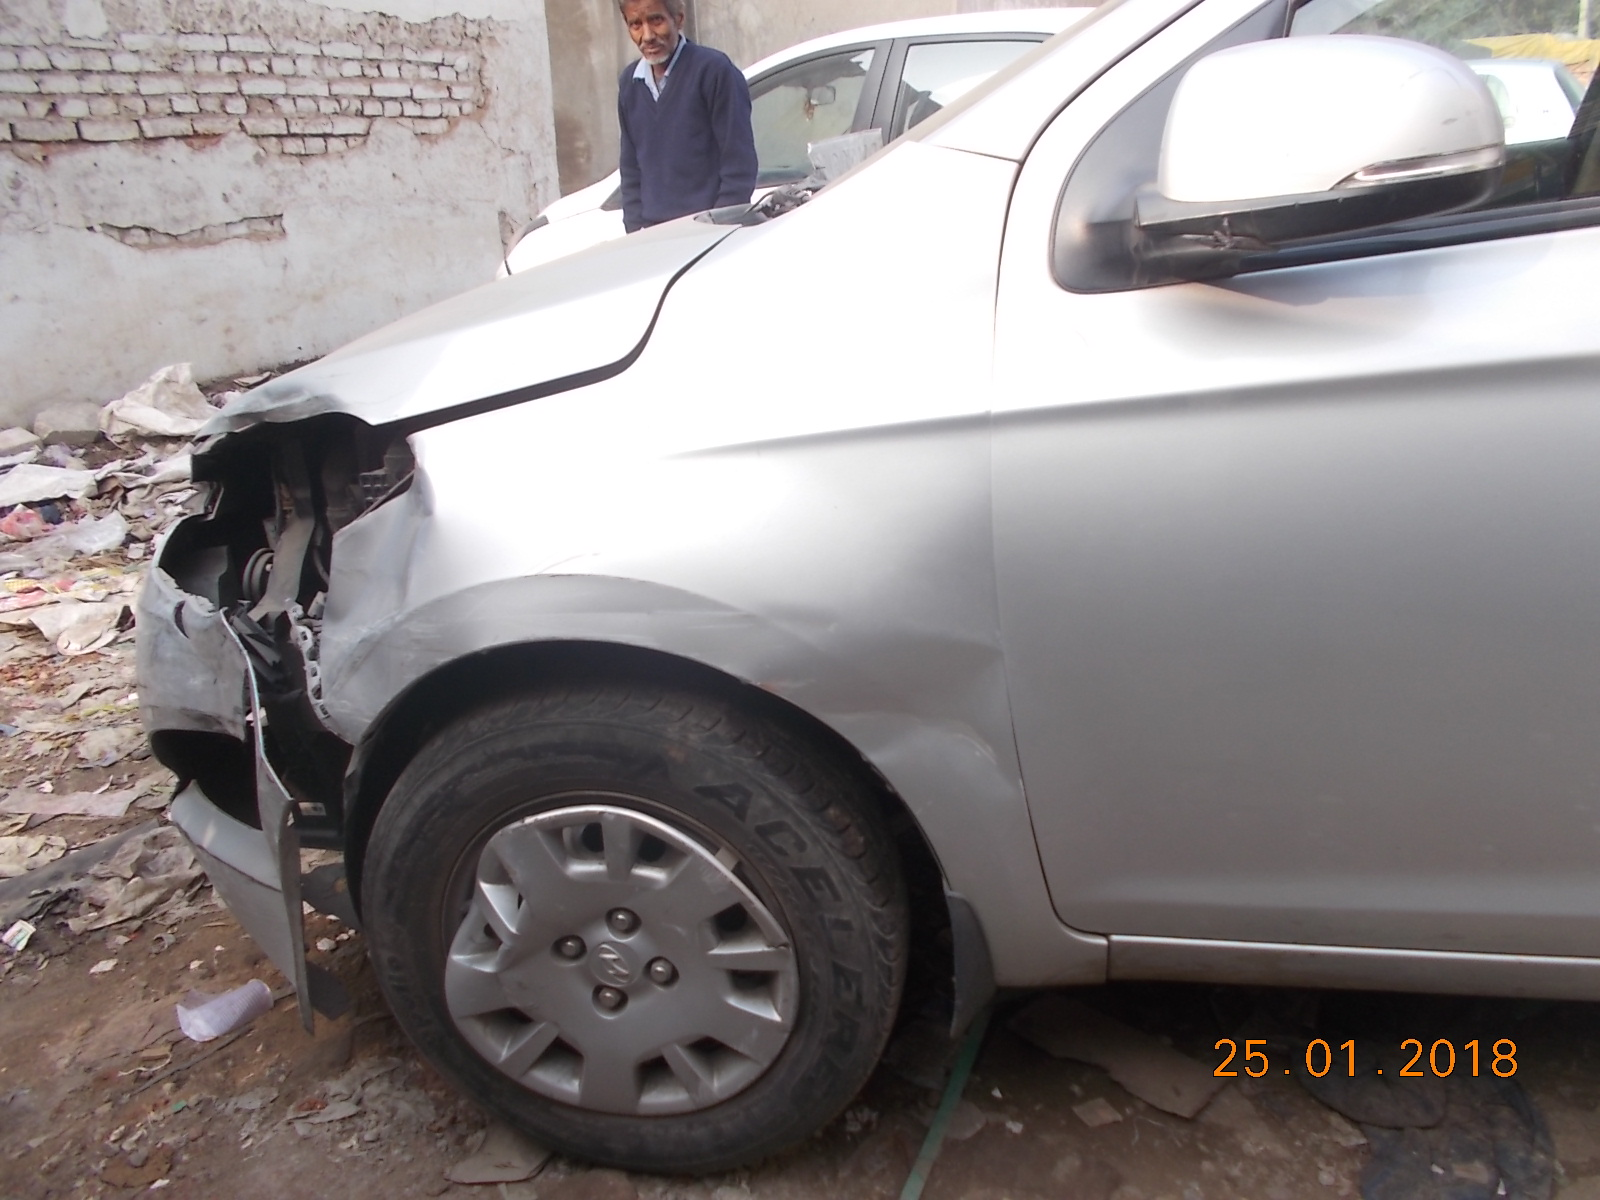Dent: (849, 681, 1010, 776), (338, 531, 449, 649)
Dislocation: (214, 595, 329, 793)
